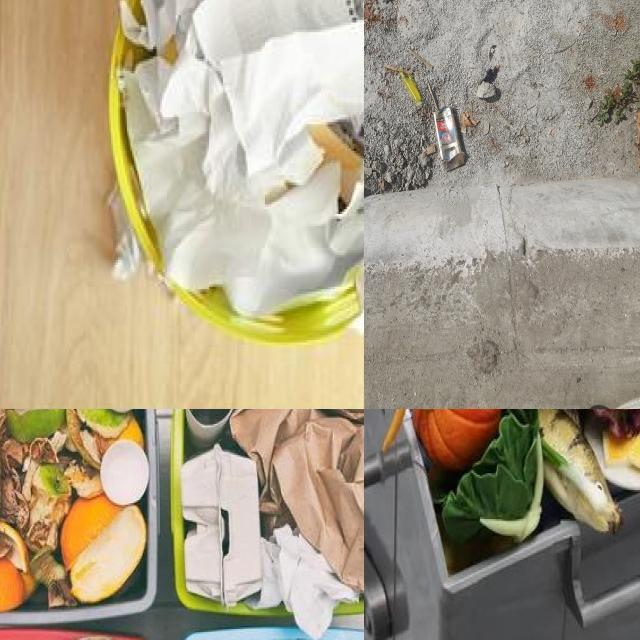Background: (364, 0, 640, 409)
Cig_pack: (434, 108, 466, 171)
Garbage: (89, 0, 364, 341), (173, 409, 364, 636), (0, 409, 159, 623), (411, 409, 640, 556)
Glass_bottle: (584, 415, 640, 490)
Paper: (118, 0, 364, 331)
Plastic: (399, 72, 422, 106), (556, 32, 557, 33)
contaminated_waste: (231, 409, 364, 594), (182, 446, 263, 605)
